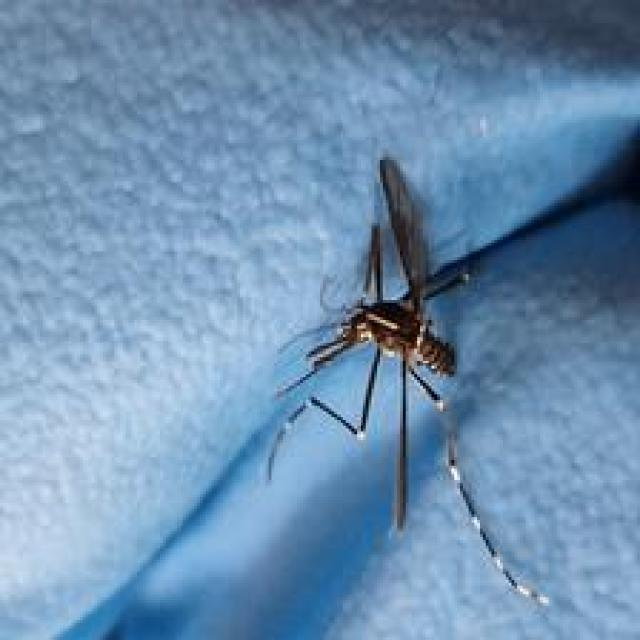Aedes albopictus: (263, 153, 551, 610)
